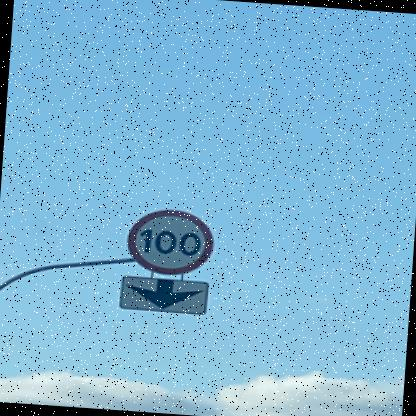speedlimit: (124, 206, 216, 277)
